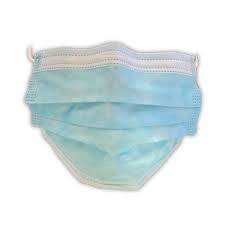flumask: (28, 46, 196, 192)
